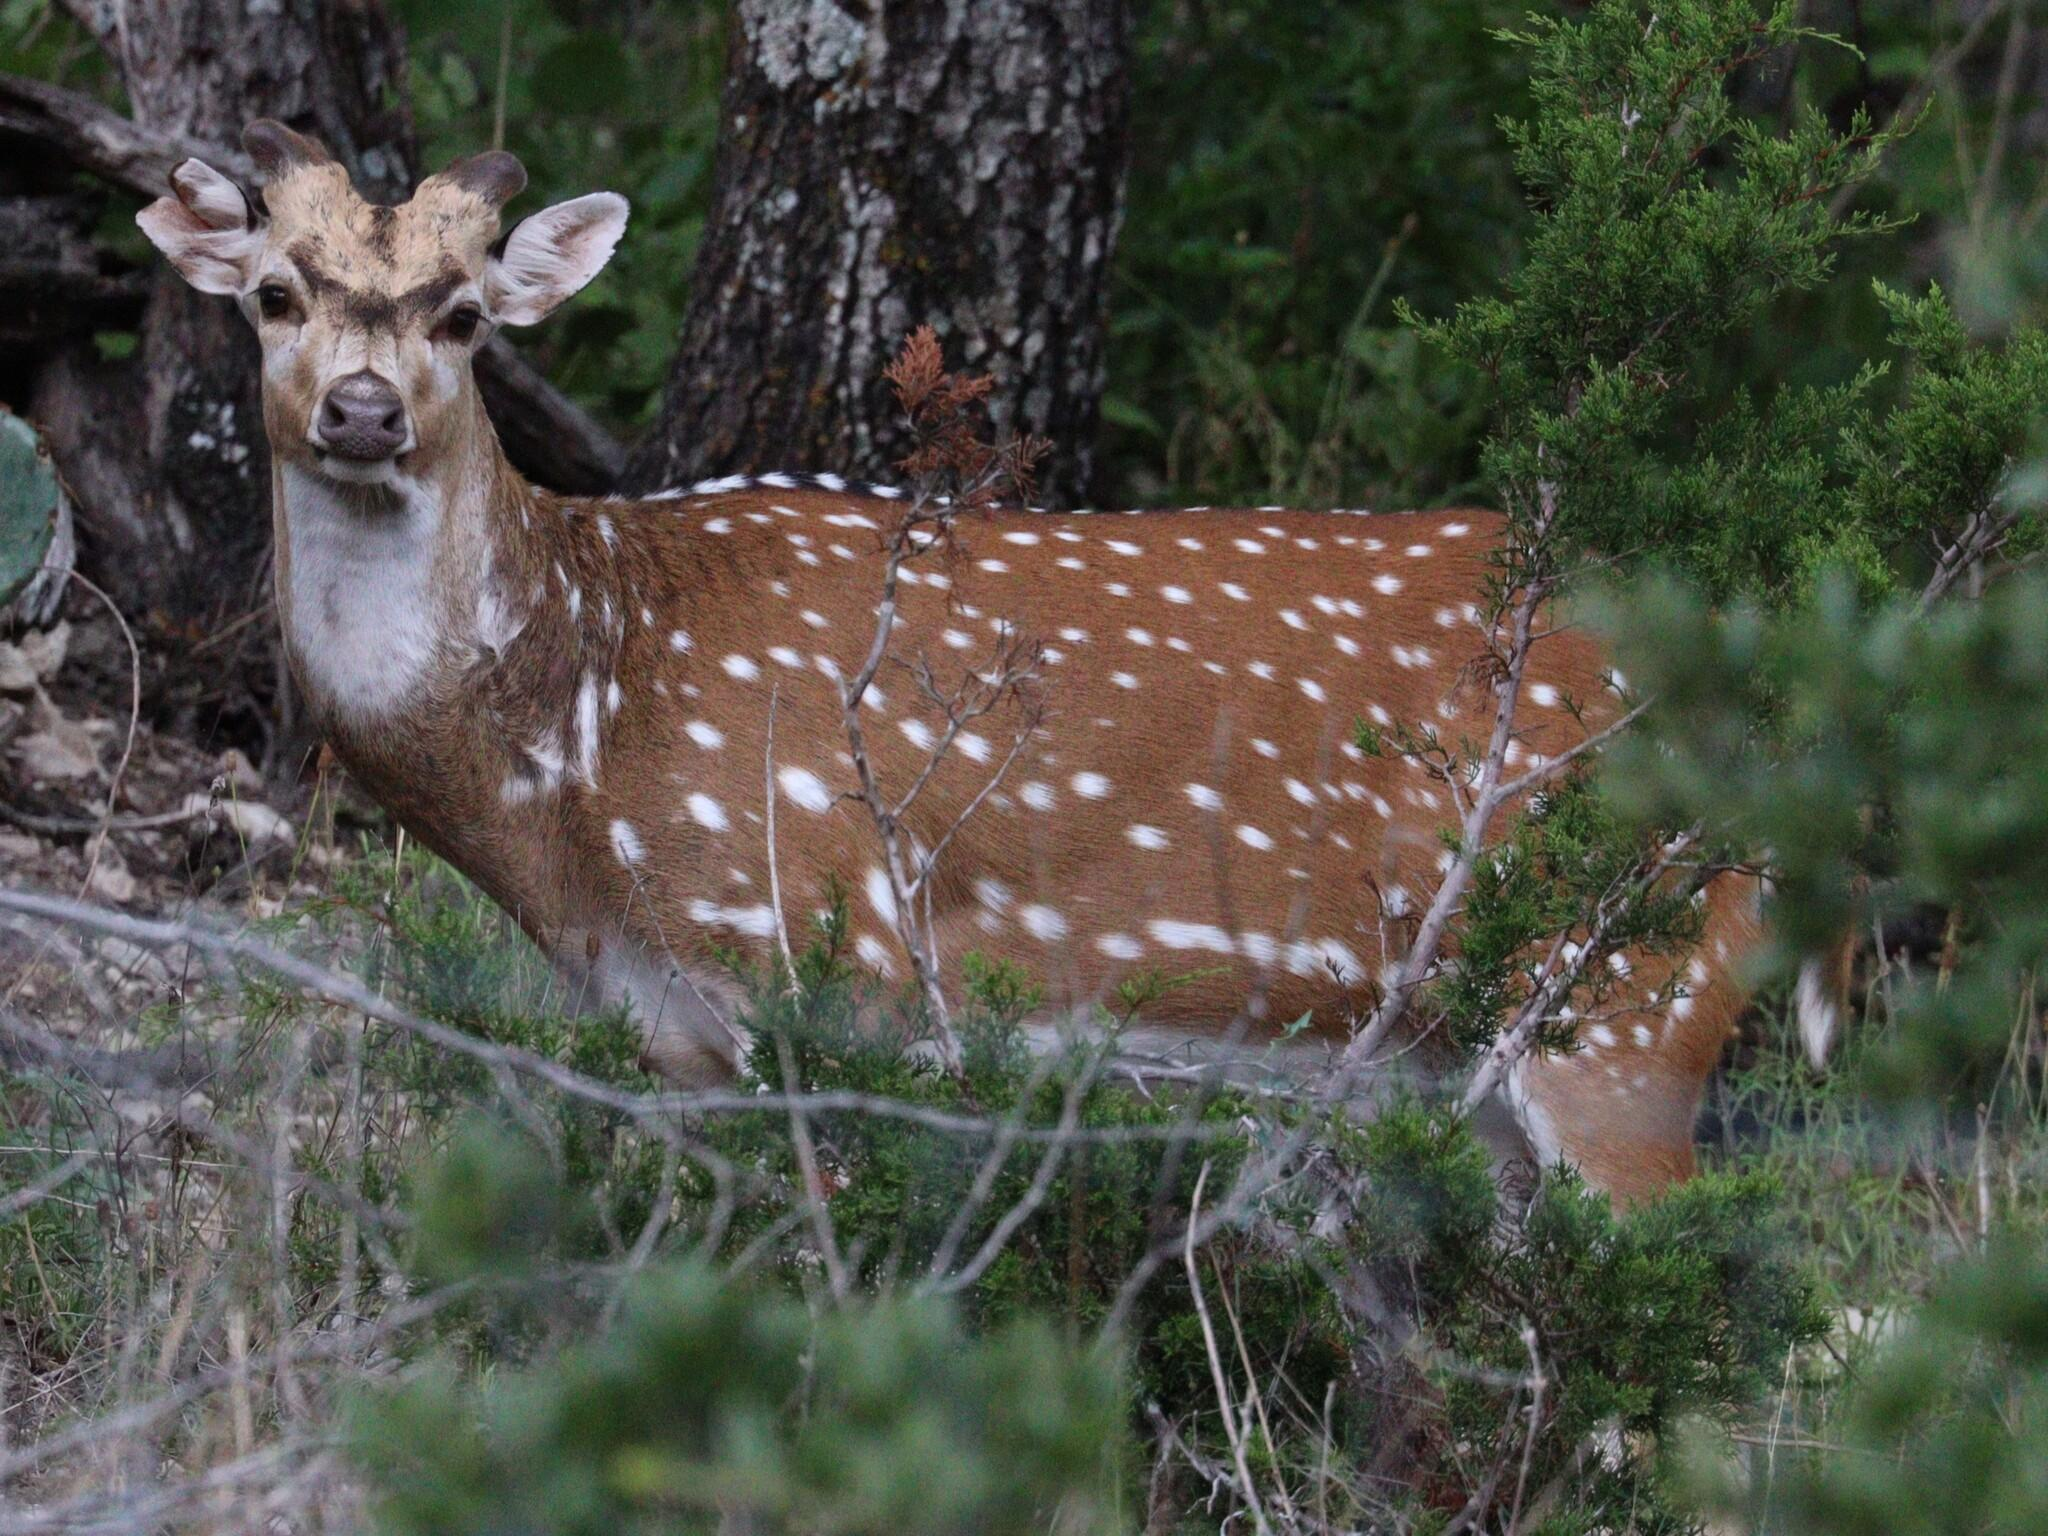Deer: (139, 123, 1500, 1089)
